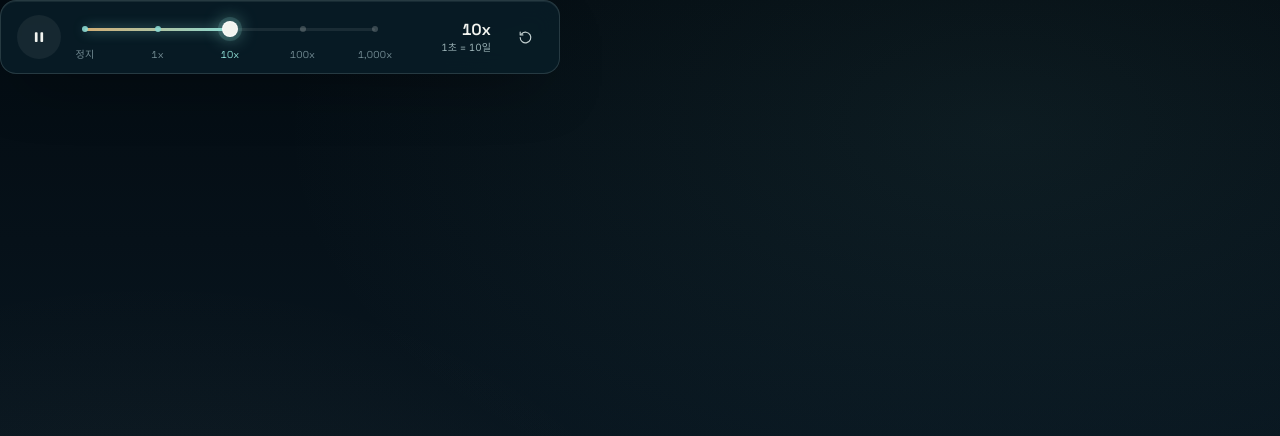
it: TimeControl › 눈금 라벨 클릭으로 배속을 선택한다
The width and height of the screenshot is (1280, 436).
Click the button "1,000x" at (375, 54), box [358,47,392,62]
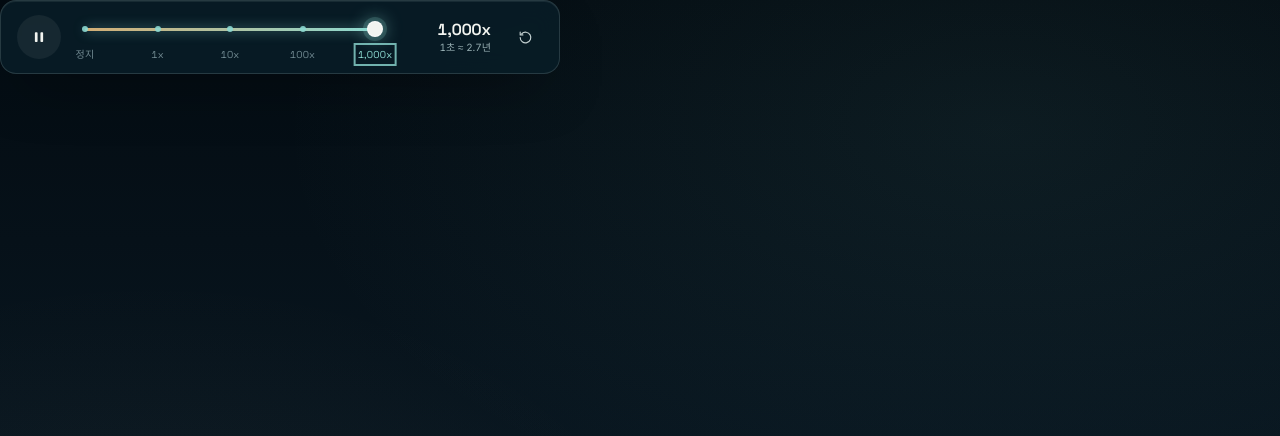
expect the text "1초 ≈ 2.7년" is shown: met, box [440,40,491,54]
